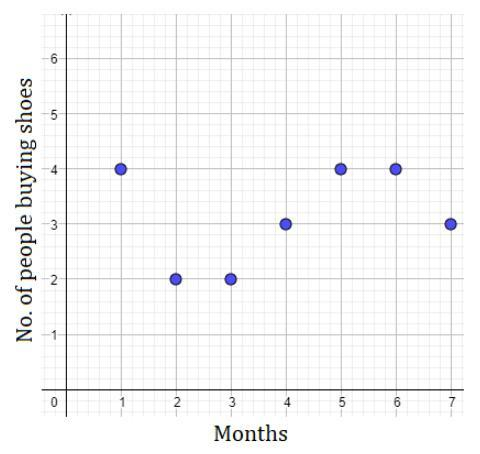axis: (61, 7, 73, 421), (42, 384, 466, 394)
point: (275, 211, 298, 239), (385, 158, 410, 183), (440, 215, 463, 239), (331, 157, 351, 182), (220, 269, 241, 291), (111, 161, 130, 182), (167, 269, 186, 288)
